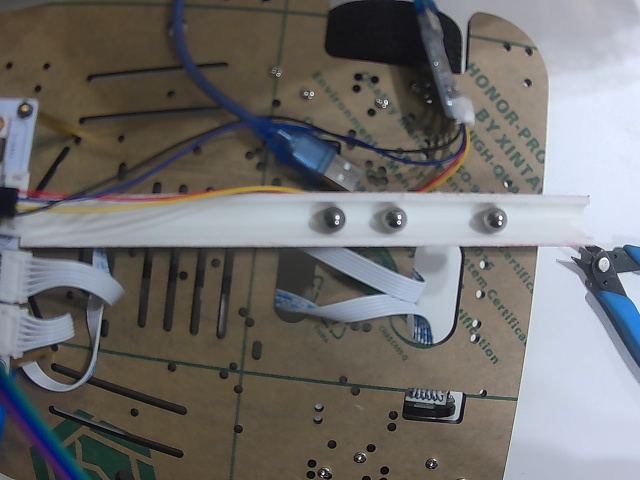steelball: (320, 206, 346, 232), (482, 207, 507, 232), (382, 207, 408, 231)
